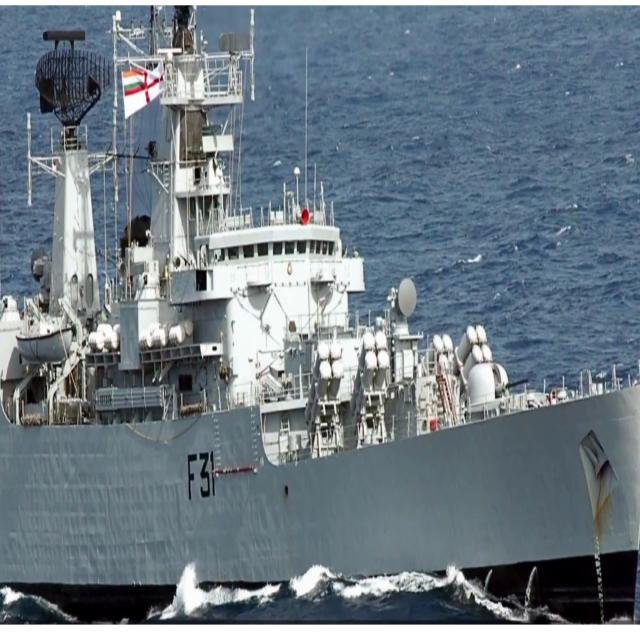OCR: (184, 446, 216, 506)
